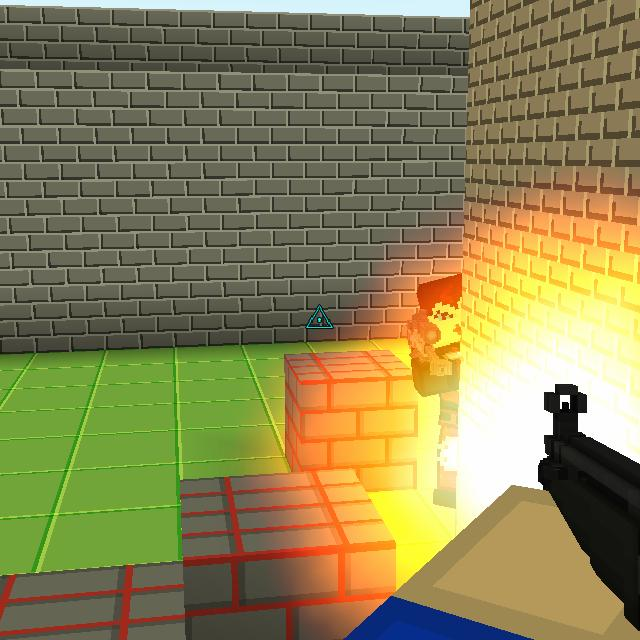enemy: (405, 266, 470, 512)
